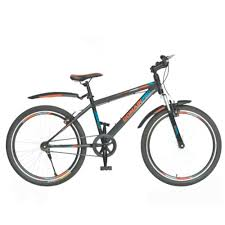bicycle: (1, 38, 224, 196)
